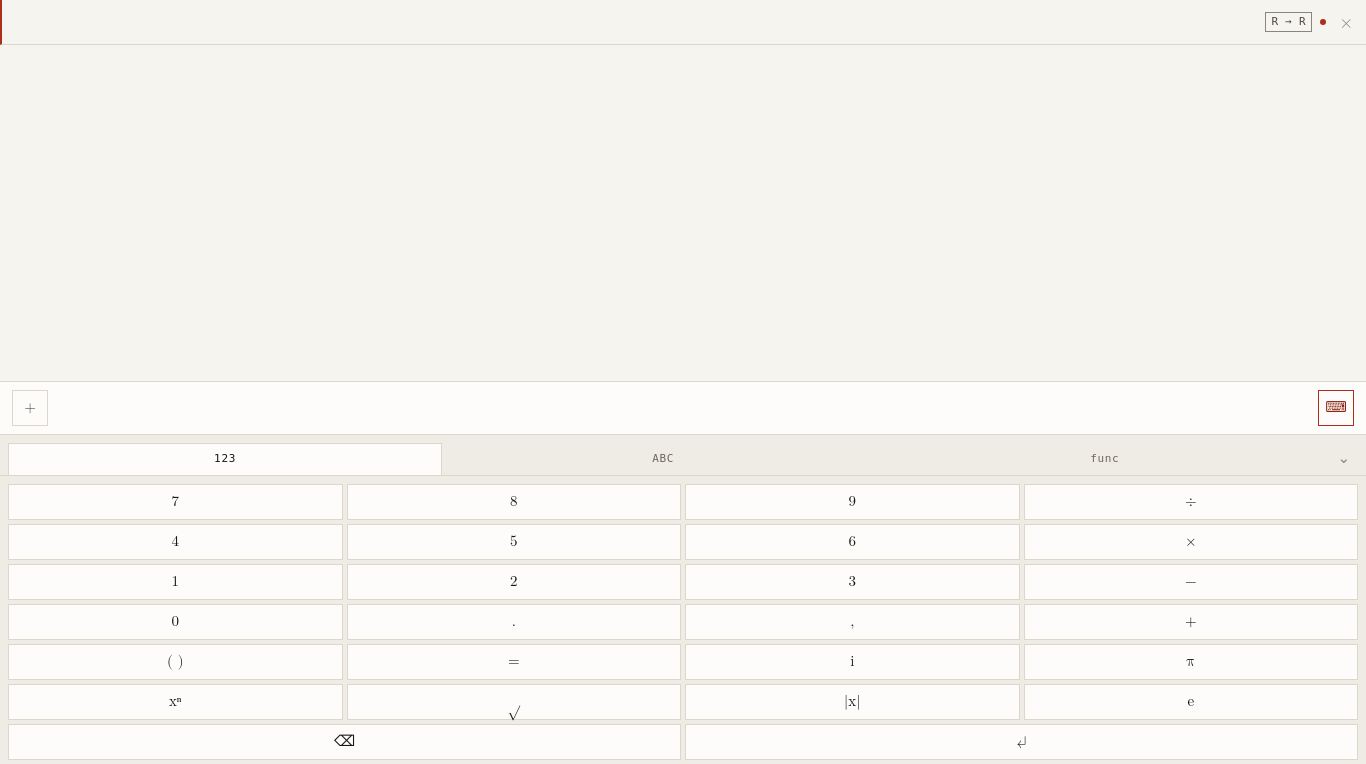
Test: page structure › offers explicit Convolution input rather than an ambiguous star
The width and height of the screenshot is (1366, 764).
Click the tab "func": (1105, 459) [884,443,1325,475]
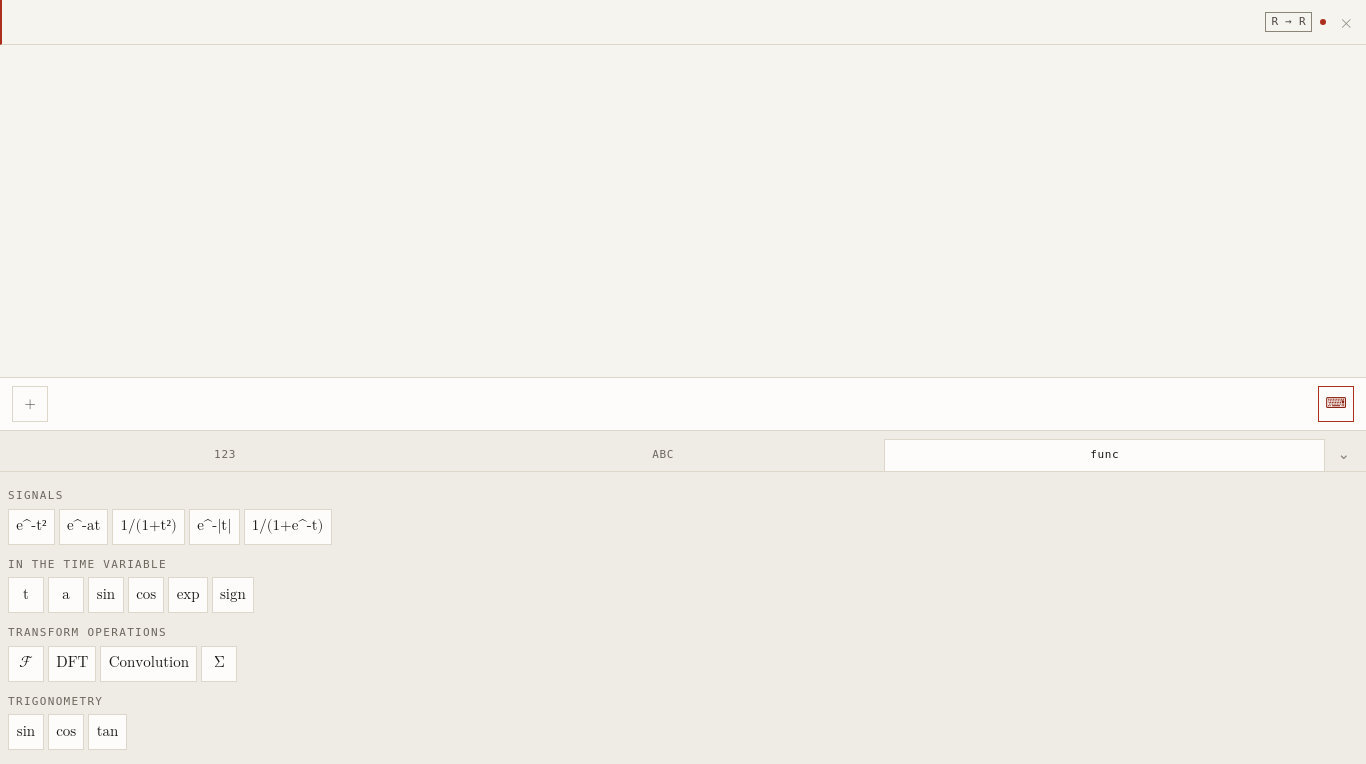
Result: the button with aria-label "A finite-window numerical convolution" is shown at [100,646,197,682]
